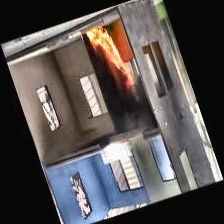fire: (79, 17, 141, 98)
